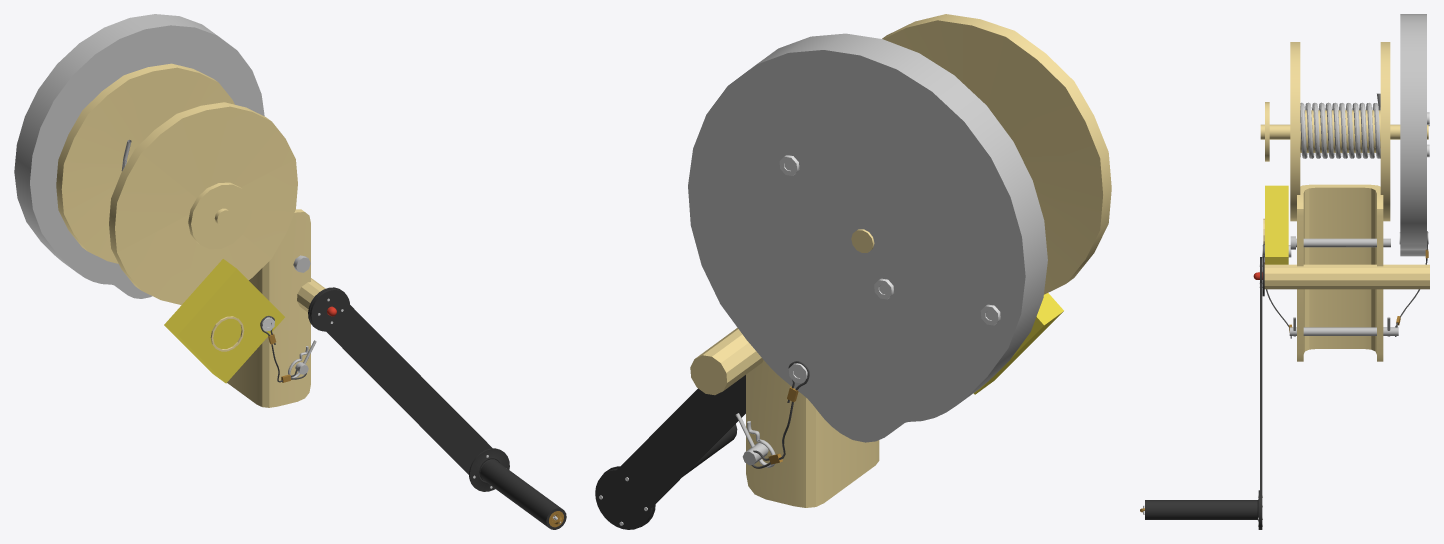
The model's file is Winch(817).fbx.
3 renders of one model, left to right at view 1: azimuth 30°, elevation 25°; view 2: azimuth 150°, elevation 25°; view 3: azimuth 270°, elevation 25°, orthographic. The views are drawn at different scales.
Parts seen in each view (by area): view 1: SM_PN817, Handle, SM_PN817.001; view 2: SM_PN817, Handle, SM_PN817.001; view 3: SM_PN817, Handle, SM_PN817.001.
Boxes of the visible parts, x1,y1,x2,y2 form: SM_PN817: (14, 14, 316, 407); Handle: (297, 278, 566, 529); SM_PN817.001: (164, 259, 306, 383); SM_PN817: (688, 14, 1111, 507); Handle: (595, 328, 763, 529); SM_PN817.001: (751, 155, 1063, 468); SM_PN817: (1260, 14, 1428, 361); Handle: (1140, 256, 1429, 529); SM_PN817.001: (1262, 112, 1429, 338).
Bounding box in the file's own units: 29.46 × 32.99 × 21.89.
